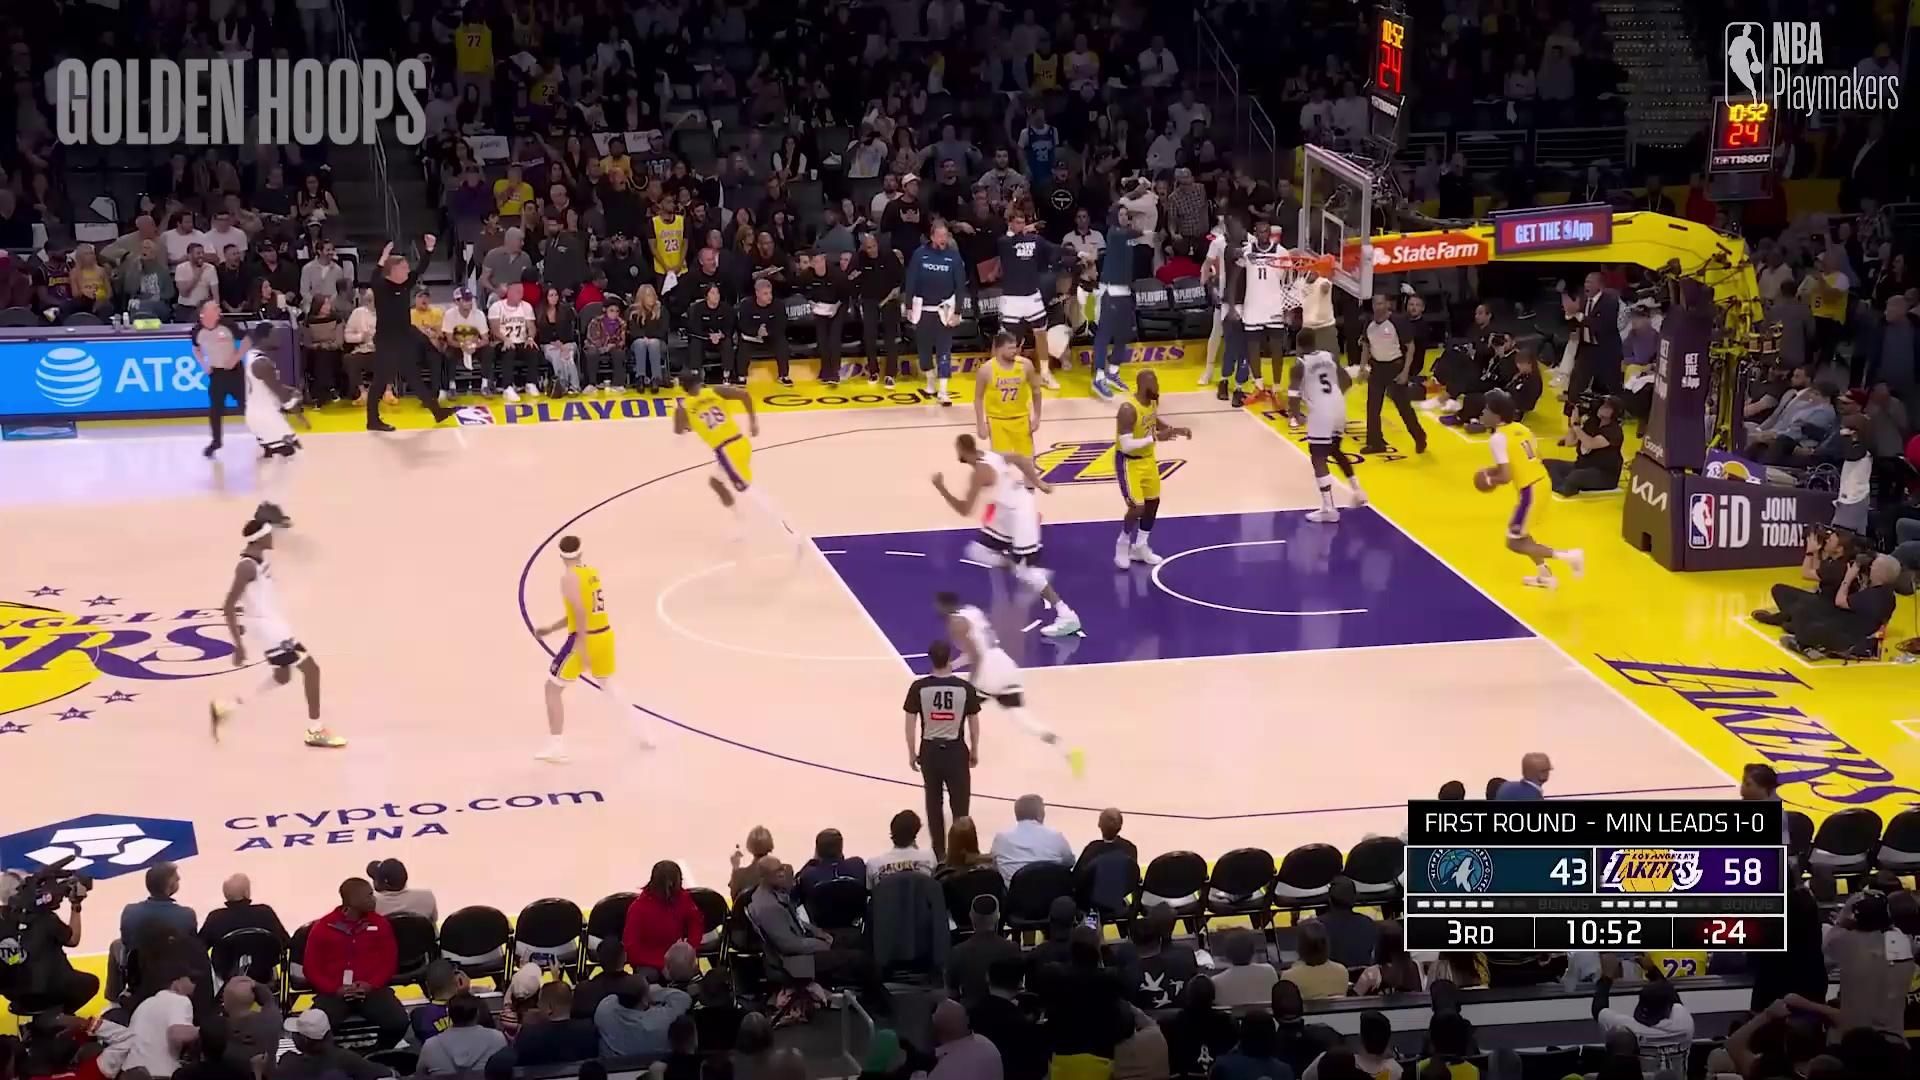ball: (1470, 464, 1493, 496)
hoop: (1261, 247, 1317, 306)
